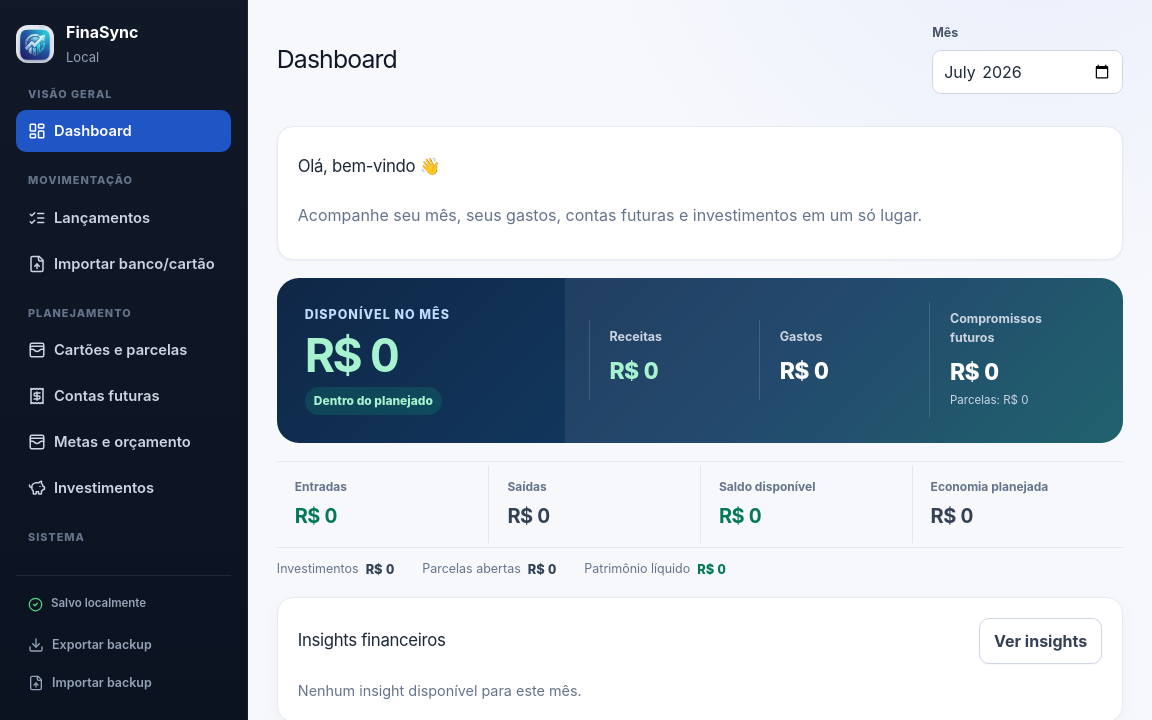
Test case: application flows › shows an empty state when the selected month has no transactions
Step 1. Click the button "Lançamentos" → (124, 218), box [16,197,231,239]
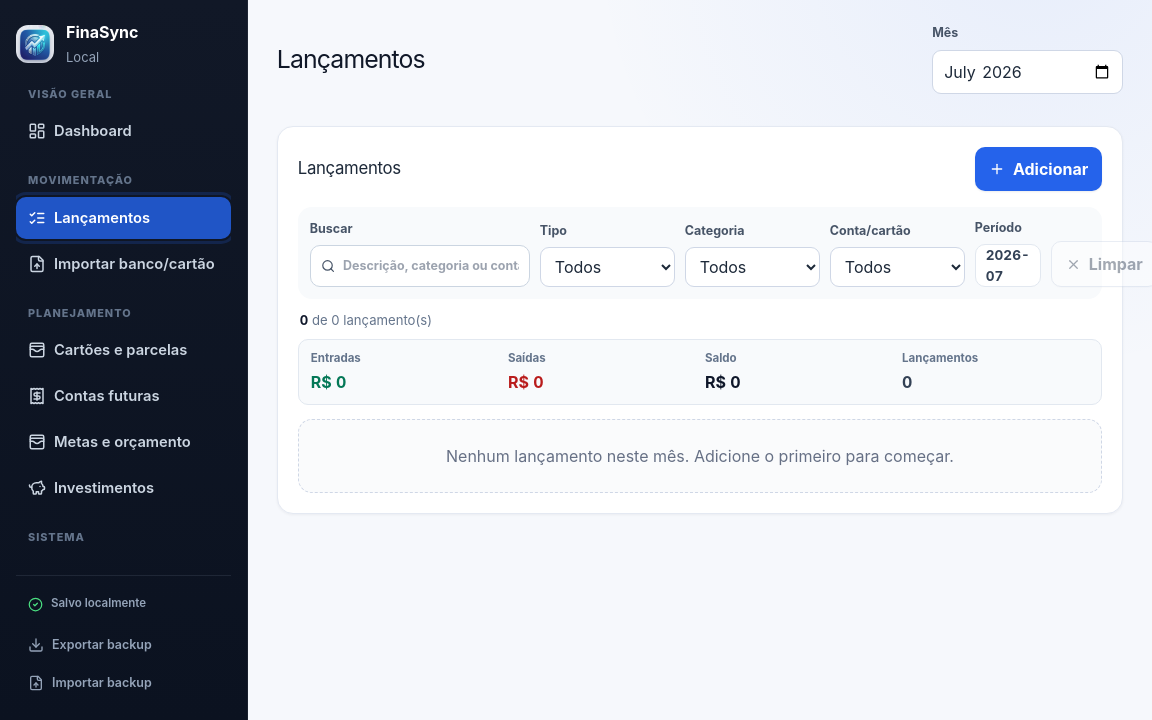
Expected: the text "Nenhum lançamento neste mês. Adicione o primeiro para começar." is shown, [298,419,1102,493]
Expected: the element with class "transaction-results" reads "0 de 0 lançamento(s)", [300,312,432,328]
